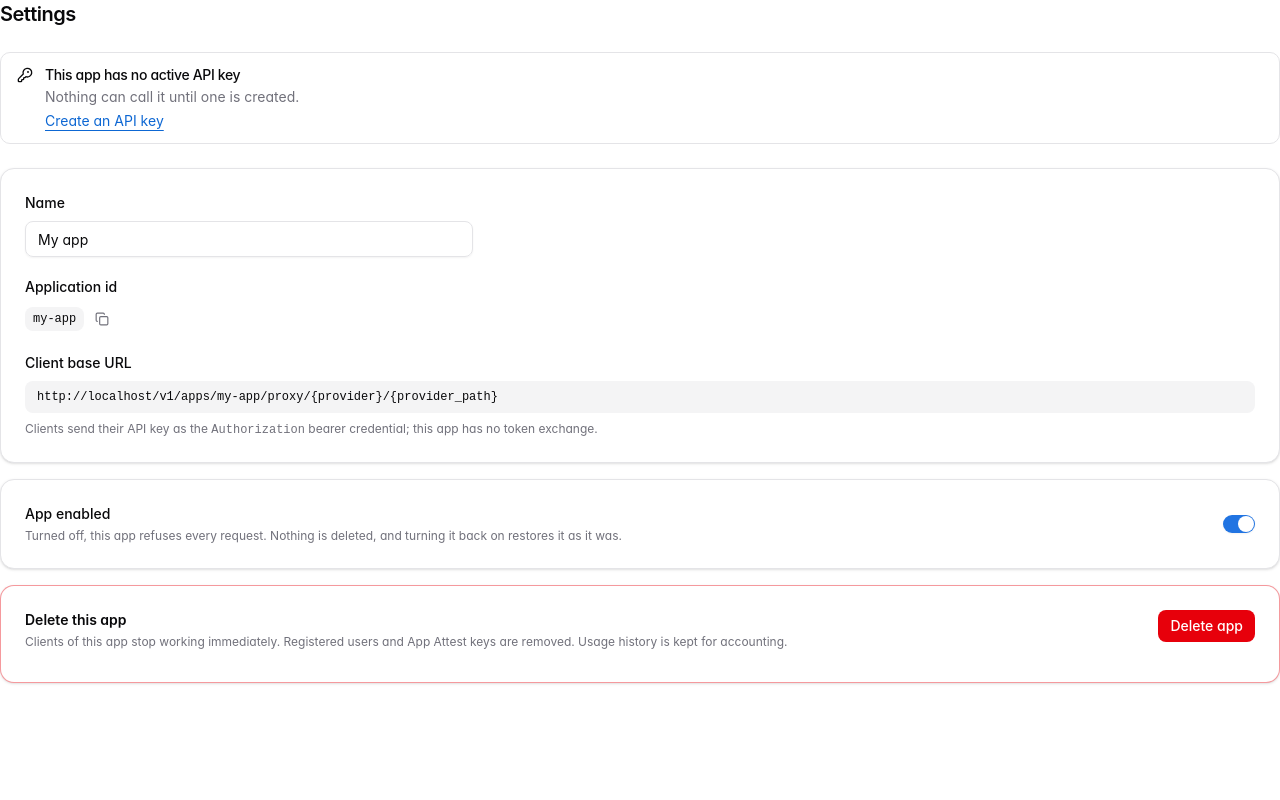
Test: SettingsTab › asks for the id before deleting
Click the button "Delete app".
click(1207, 626)  # box [1158,610,1255,642]
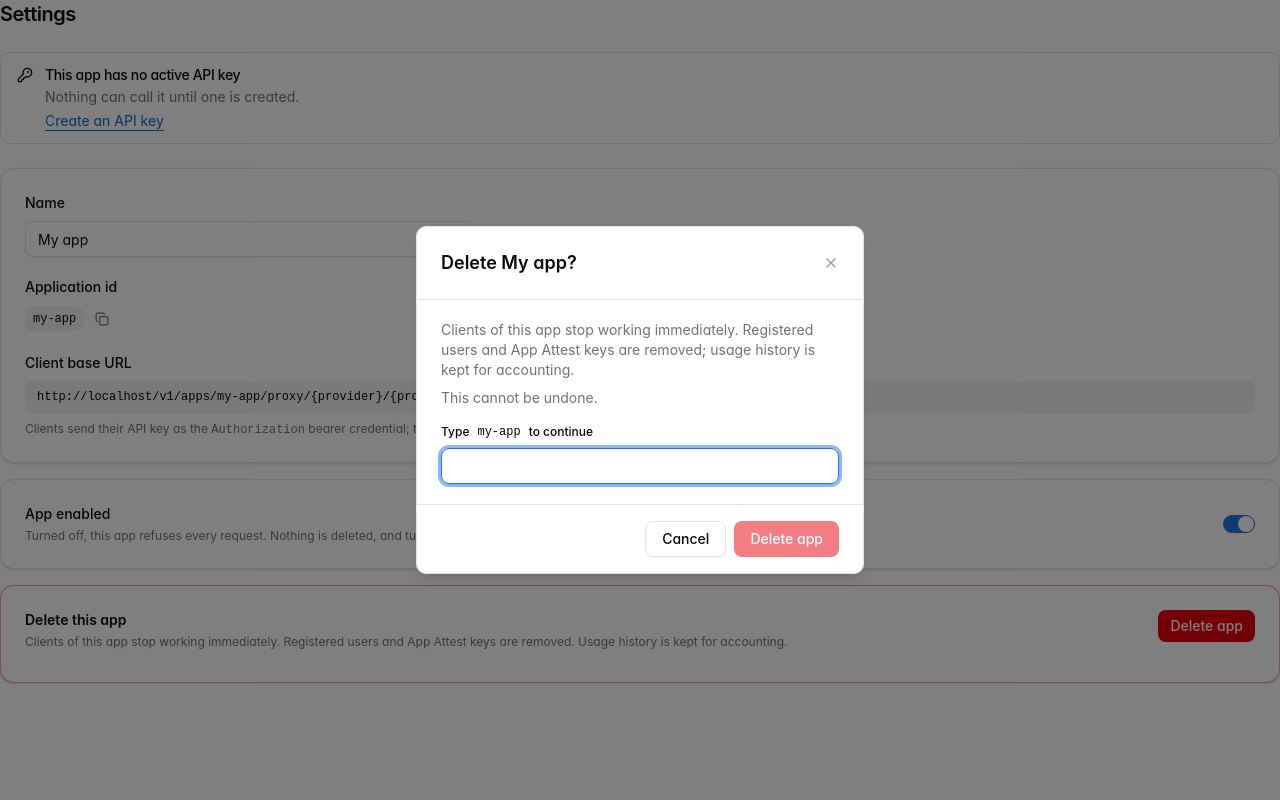
Result: the dialog shows "Delete My app?" at [441,252,577,273]
Result: the button "Delete app" is disabled at [734,521,839,557]
